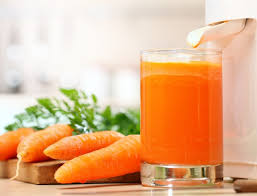carrot: (51, 134, 138, 185), (39, 125, 116, 160), (16, 127, 89, 156)
